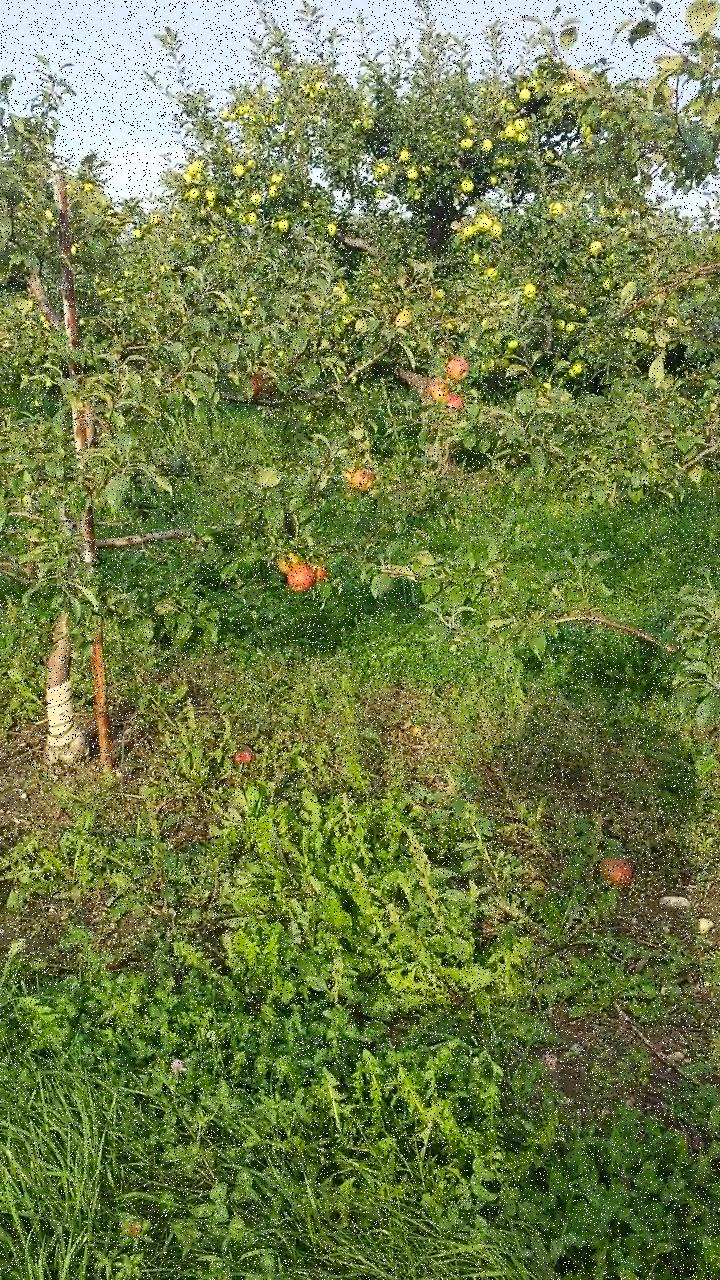Apple: (285, 563, 313, 590), (277, 548, 300, 573), (351, 468, 374, 490), (427, 381, 449, 403), (447, 356, 467, 380), (248, 376, 263, 401), (443, 393, 463, 410), (341, 463, 353, 482), (312, 565, 325, 578)
